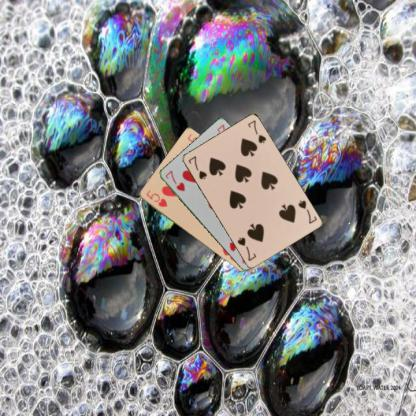5h: (143, 187, 169, 209)
7h: (162, 168, 186, 192)
7s: (185, 153, 208, 181), (295, 198, 318, 224)
